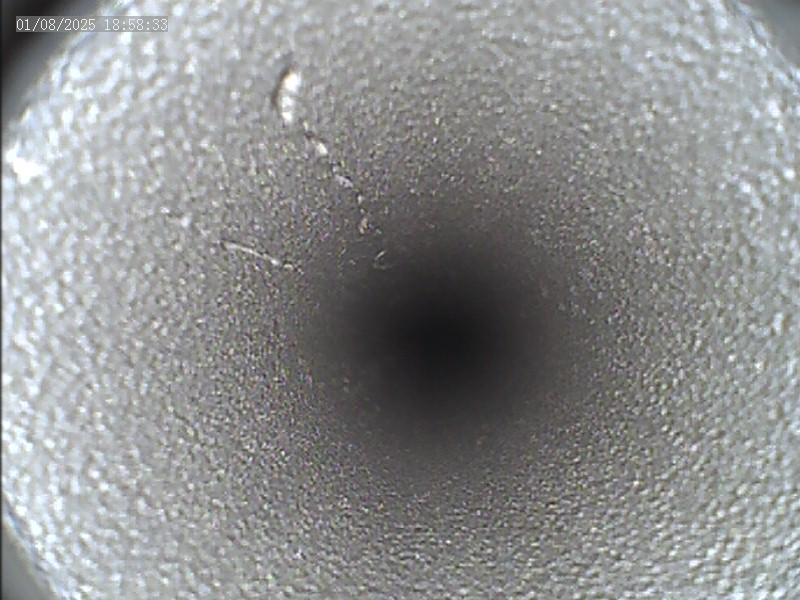defective_area: (212, 65, 365, 274)
